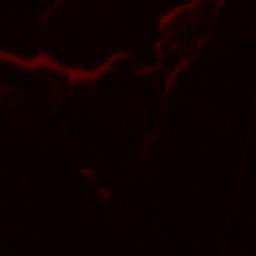debris: (1, 53, 47, 66), (75, 63, 105, 81), (49, 58, 79, 74), (153, 39, 166, 70), (169, 61, 187, 76), (94, 182, 109, 200), (141, 131, 151, 153), (162, 77, 175, 92), (78, 168, 94, 179), (175, 4, 191, 14), (108, 52, 122, 63), (159, 14, 172, 24)
